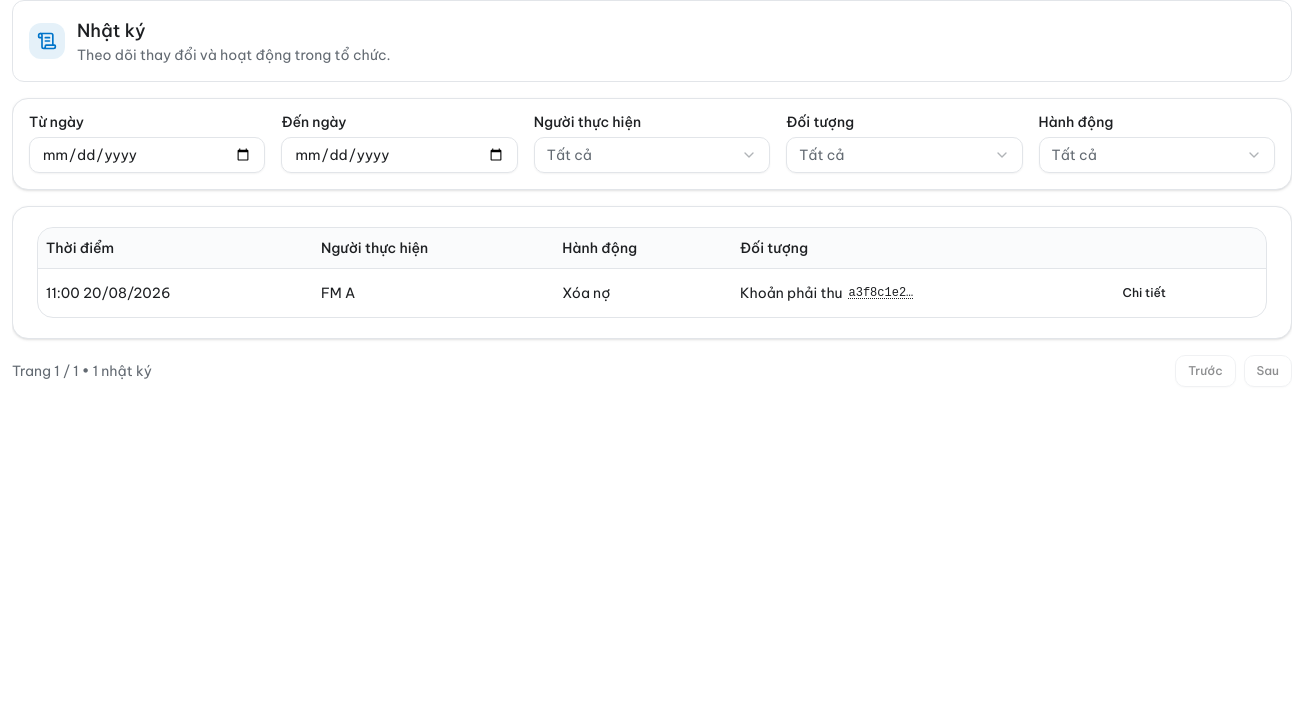
Test case: AuditLogTab › shows before/after state and ip only after expanding the row
This screenshot has width=1304, height=720.
Expected: the text "203.0.113.7" is not shown
What coordinates should you click on to do the following:
click the button "Chi tiết"
I would click on:
 (1144, 292)
Its box is [1111,276,1178,308].
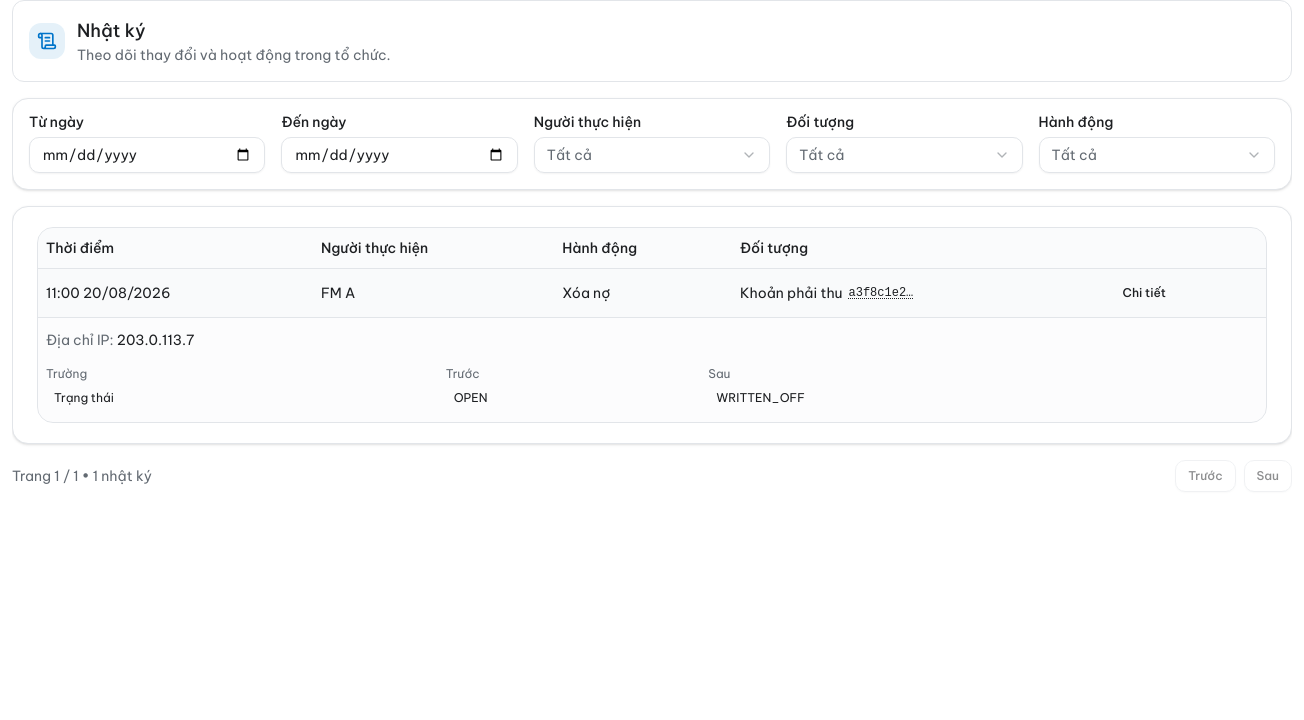
Result: the text "203.0.113.7" is shown at [117,330,194,348]
Result: the text "Trạng thái" is shown at [46,386,446,410]
Result: the text "OPEN" is shown at [446,386,708,410]
